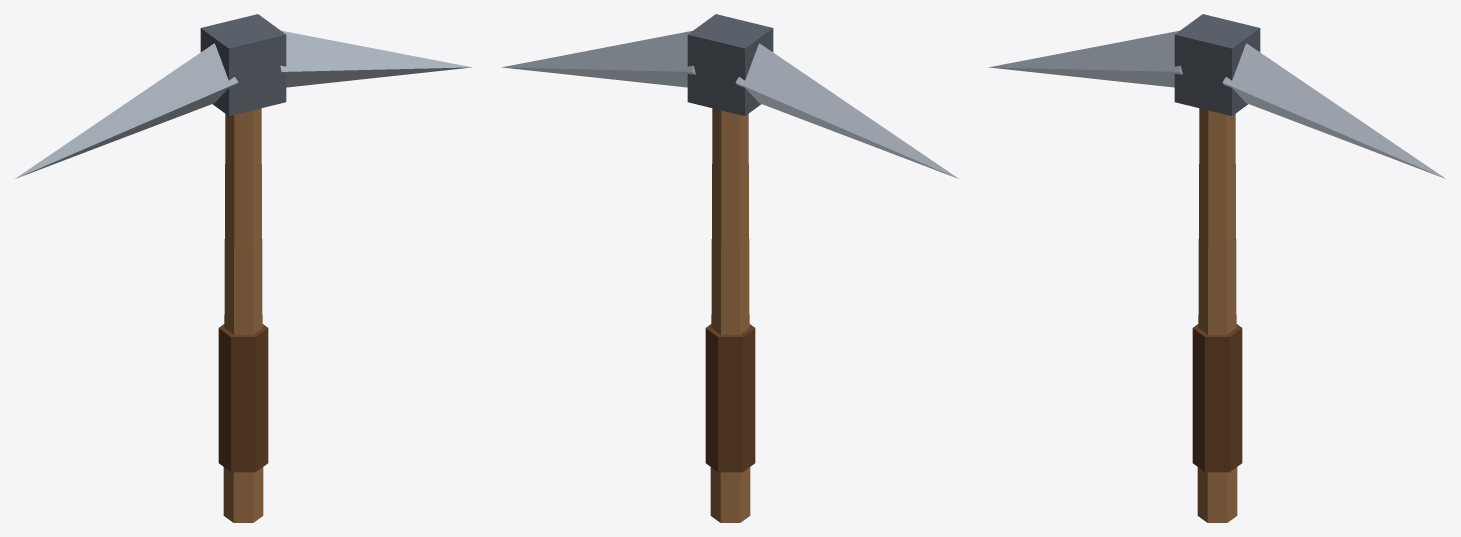
The model's file is Pickaxe.fbx.
3 views of the same model, side by side, from view 1: azimuth 30°, elevation 25°; view 2: azimuth 150°, elevation 25°; view 3: azimuth 330°, elevation 25° (orthographic).
Parts seen in each view (by area): view 1: Pickaxe; view 2: Pickaxe; view 3: Pickaxe.
Boxes of the visible parts, x1,y1,x2,y2 form: Pickaxe: [15, 14, 471, 522]; Pickaxe: [502, 14, 958, 522]; Pickaxe: [989, 14, 1445, 522].
Size of the model in its own units: 3.2 by 3.22 by 0.4.
1 material, 1 textured.
